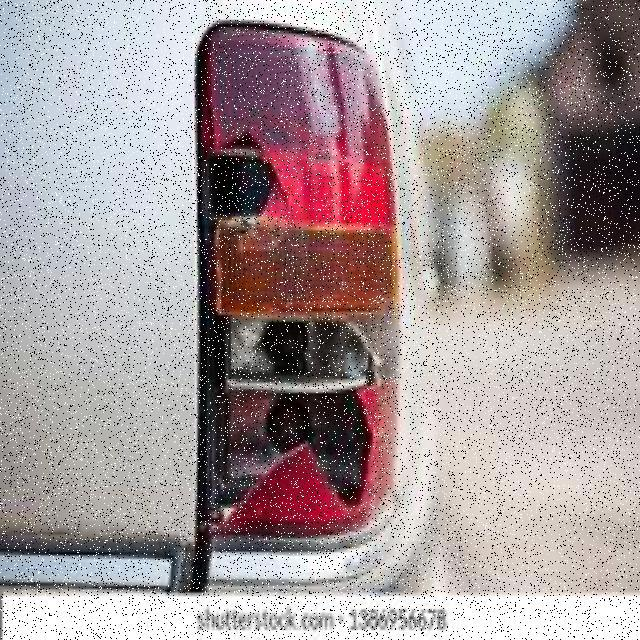Taillight-Damage: (190, 10, 418, 579)
